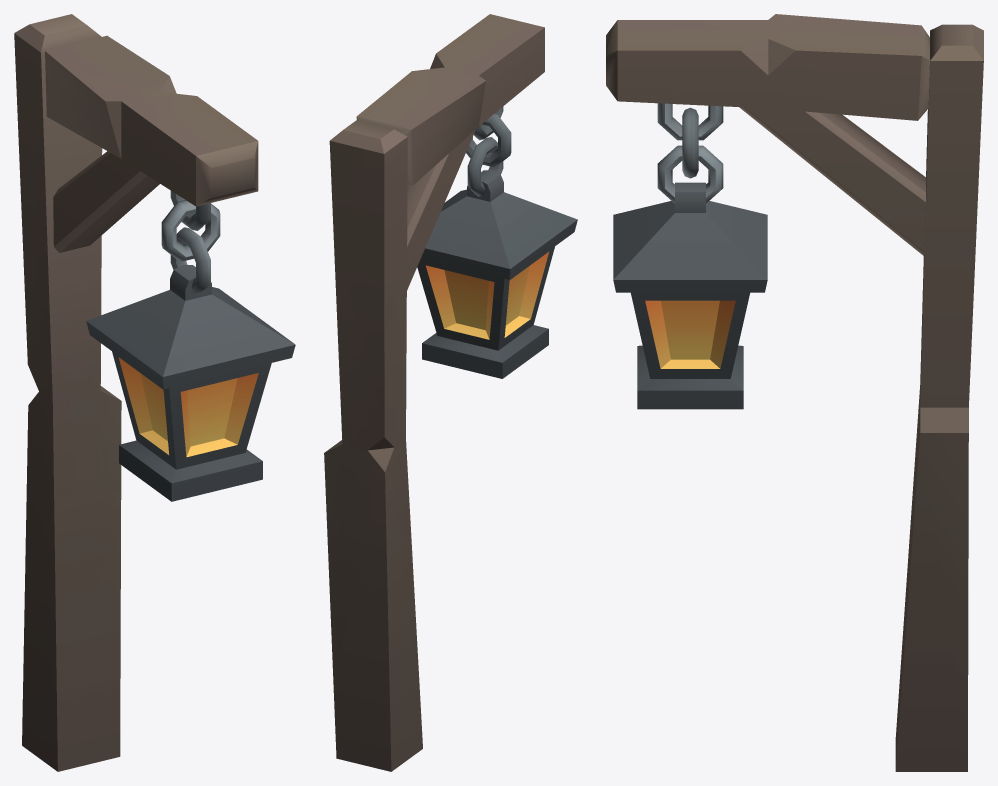
The model's file is post-lantern.glb.
3 views of the same model, side by side, from view 1: azimuth 30°, elevation 25°; view 2: azimuth 150°, elevation 25°; view 3: azimuth 270°, elevation 25° (orthographic). The views are drawn at different scales.
Visible parts, largest first — view 1: post_lantern; view 2: post_lantern; view 3: post_lantern.
Part boxes in pixels (<box>): post_lantern: <box>14,14,295,771</box>; post_lantern: <box>324,14,577,771</box>; post_lantern: <box>606,14,983,771</box>.
Bounding box in the file's own units: 0.6399 × 3.3 × 1.57.
Materials: 1 (1 with a texture image).
